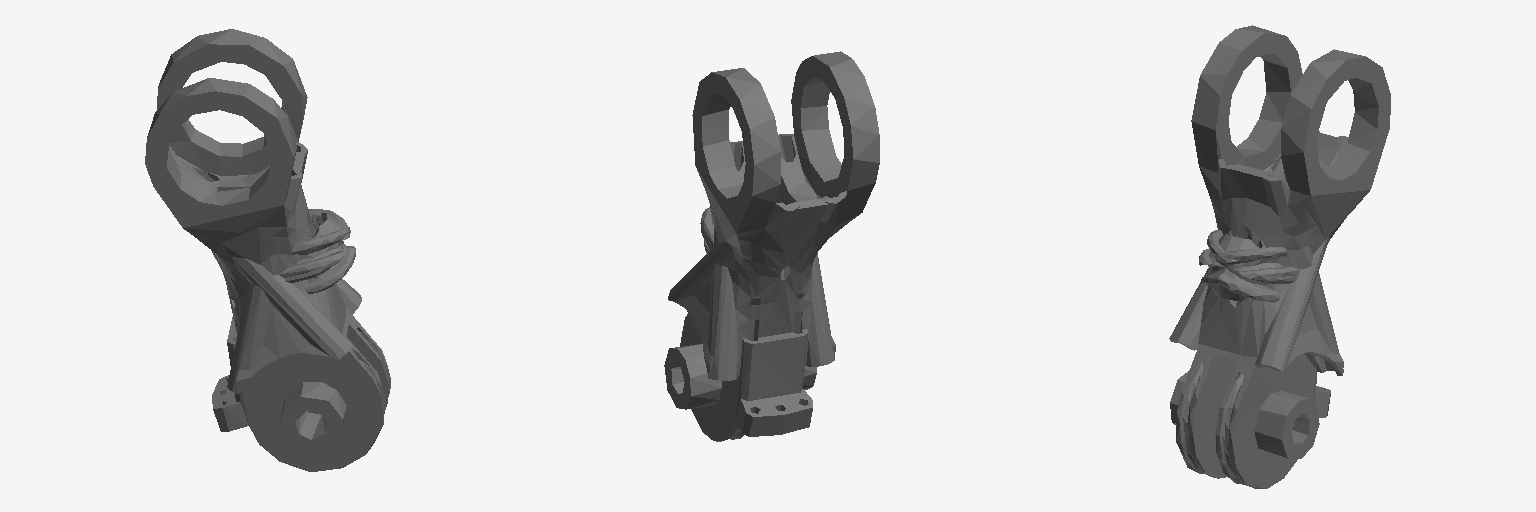
File: hand_finger2-b.obj
The picture shows the model from 3 angles: view 1: azimuth 30°, elevation 25°; view 2: azimuth 150°, elevation 25°; view 3: azimuth 270°, elevation 25°; orthographic projection.
Visible parts, largest first — view 1: finger2-b; view 2: finger2-b; view 3: finger2-b.
Part boxes in pixels (x1,y1,x2,y2): finger2-b: (145,29,390,471); finger2-b: (664,51,879,441); finger2-b: (1169,25,1390,488).
Bounding box in the file's own units: 0.0726 × 0.1248 × 0.0624.